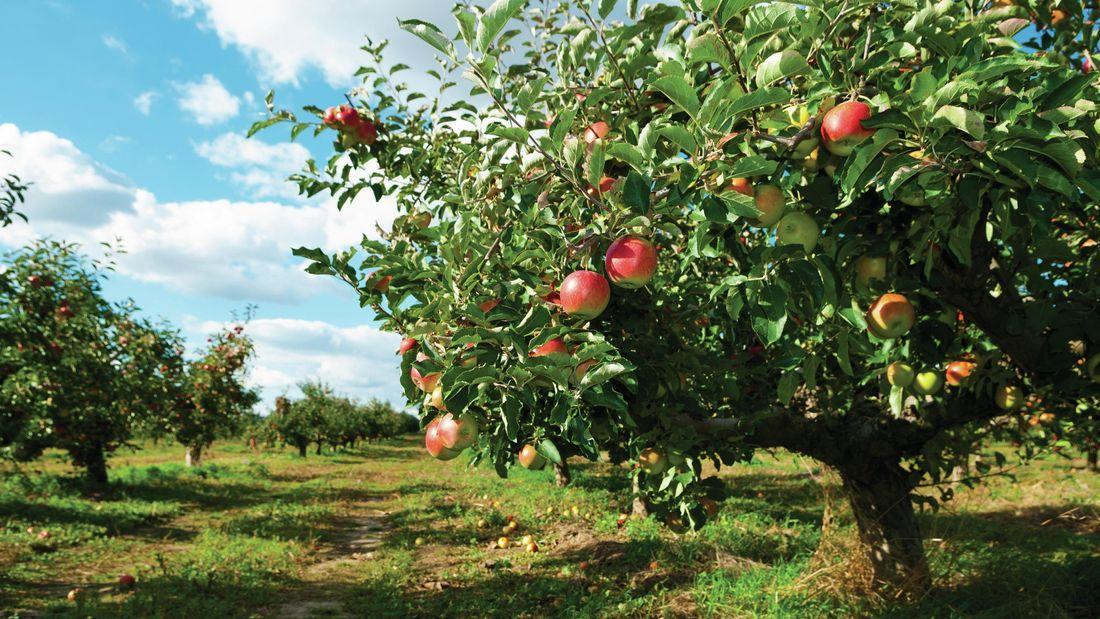apple: (605, 229, 656, 287), (821, 101, 875, 150), (561, 272, 611, 321), (866, 293, 916, 339), (777, 211, 820, 256), (753, 184, 785, 229), (529, 337, 568, 358)
